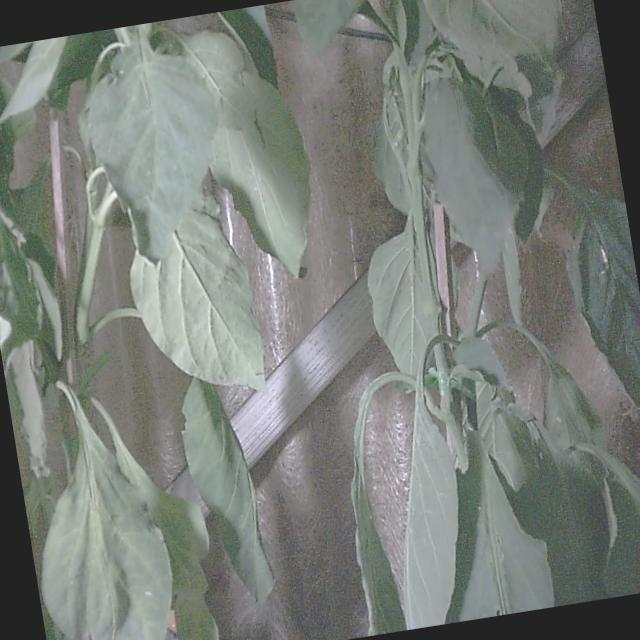Leaf: (41, 383, 171, 639), (88, 39, 216, 260), (130, 212, 264, 389), (182, 379, 273, 602), (459, 432, 553, 619), (572, 194, 639, 407), (403, 390, 457, 628), (367, 228, 431, 375), (0, 36, 66, 122), (294, 0, 359, 53)
